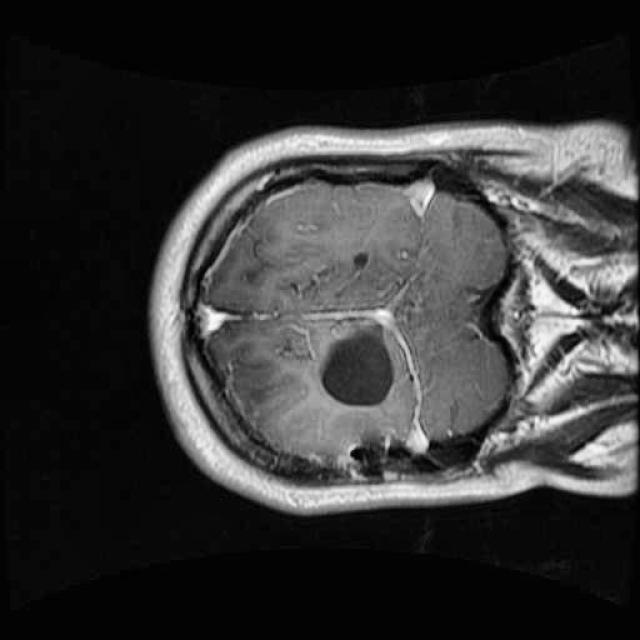Tumor: (306, 306, 408, 424)
